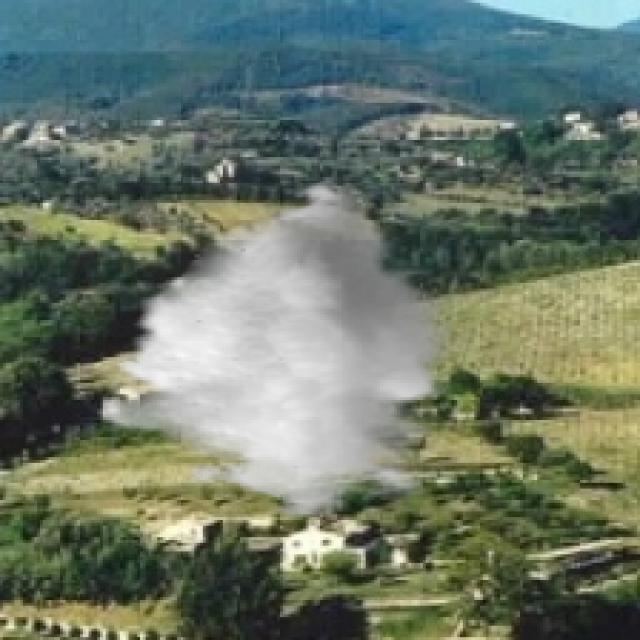Smoke: (100, 174, 454, 517)
